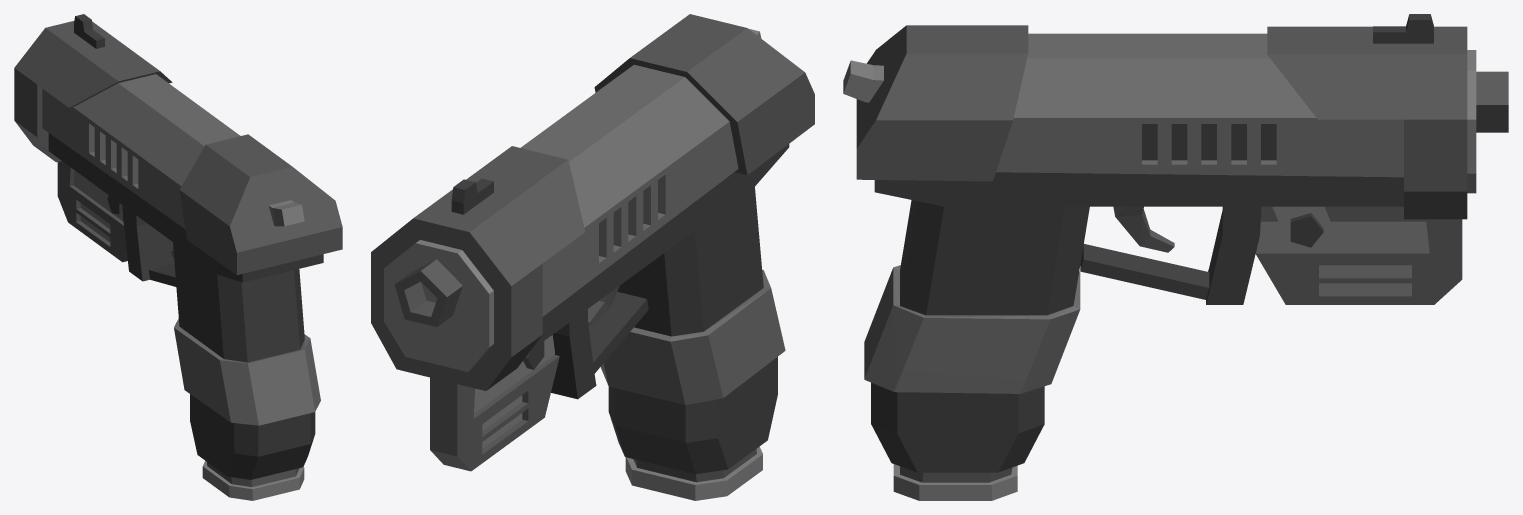
File: pistol_4.glb
3 renders of one model, left to right at view 1: azimuth 30°, elevation 25°; view 2: azimuth 150°, elevation 25°; view 3: azimuth 270°, elevation 25°, orthographic. The views are drawn at different scales.
Parts seen in each view (by area): view 1: pistol_4, pistol_charger_4; view 2: pistol_4, pistol_charger_4; view 3: pistol_4, pistol_charger_4.
Part boxes in pixels (<box>): pistol_4: <box>14,14,342,479</box>; pistol_charger_4: <box>202,461,304,500</box>; pistol_4: <box>371,14,814,474</box>; pistol_charger_4: <box>625,446,762,500</box>; pistol_4: <box>843,14,1508,472</box>; pistol_charger_4: <box>893,464,1017,500</box>.
Bounding box in the file's own units: 0.2956 × 0.8977 × 1.18.
Materials: 1 (1 with a texture image).
